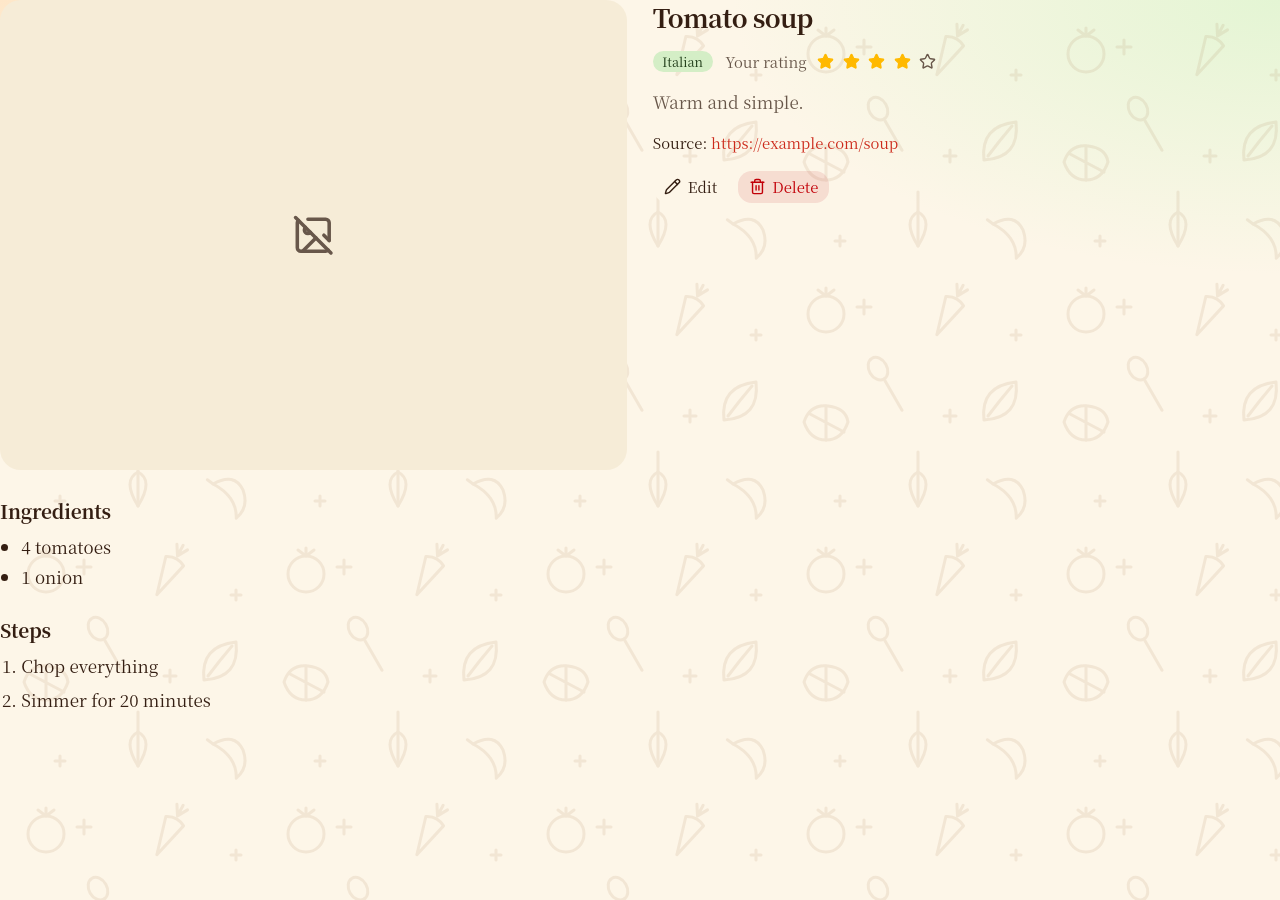
Scenario: RecipeDetailPage › asks for confirmation and does nothing when cancelled
Step 1. Click the button "Delete" → (784, 187), box [737,170,830,204]
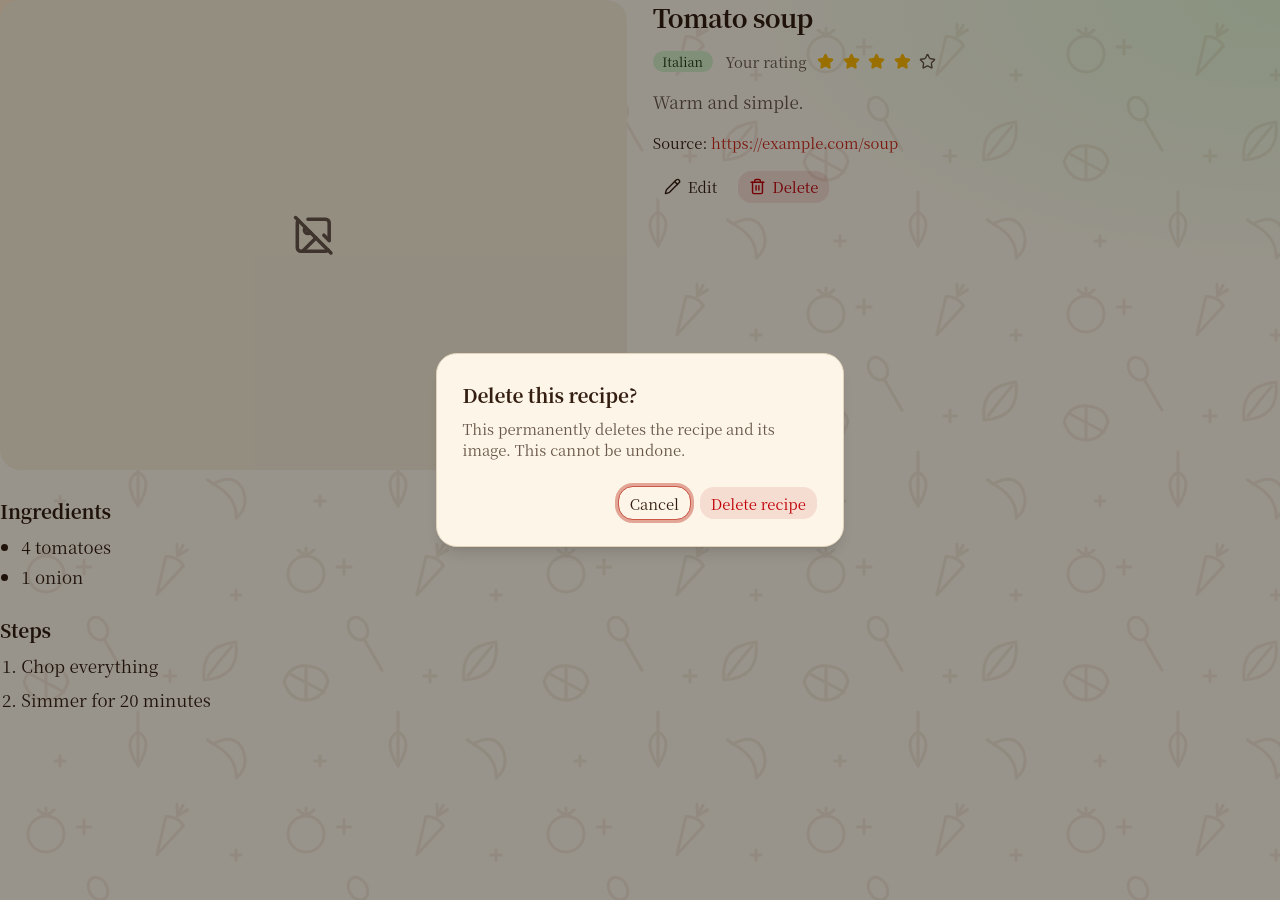
Expected: the dialog shows "cannot be undone", [462,418,775,460]
Step 2. Click the button "Cancel" → (654, 503), box [618,486,691,520]
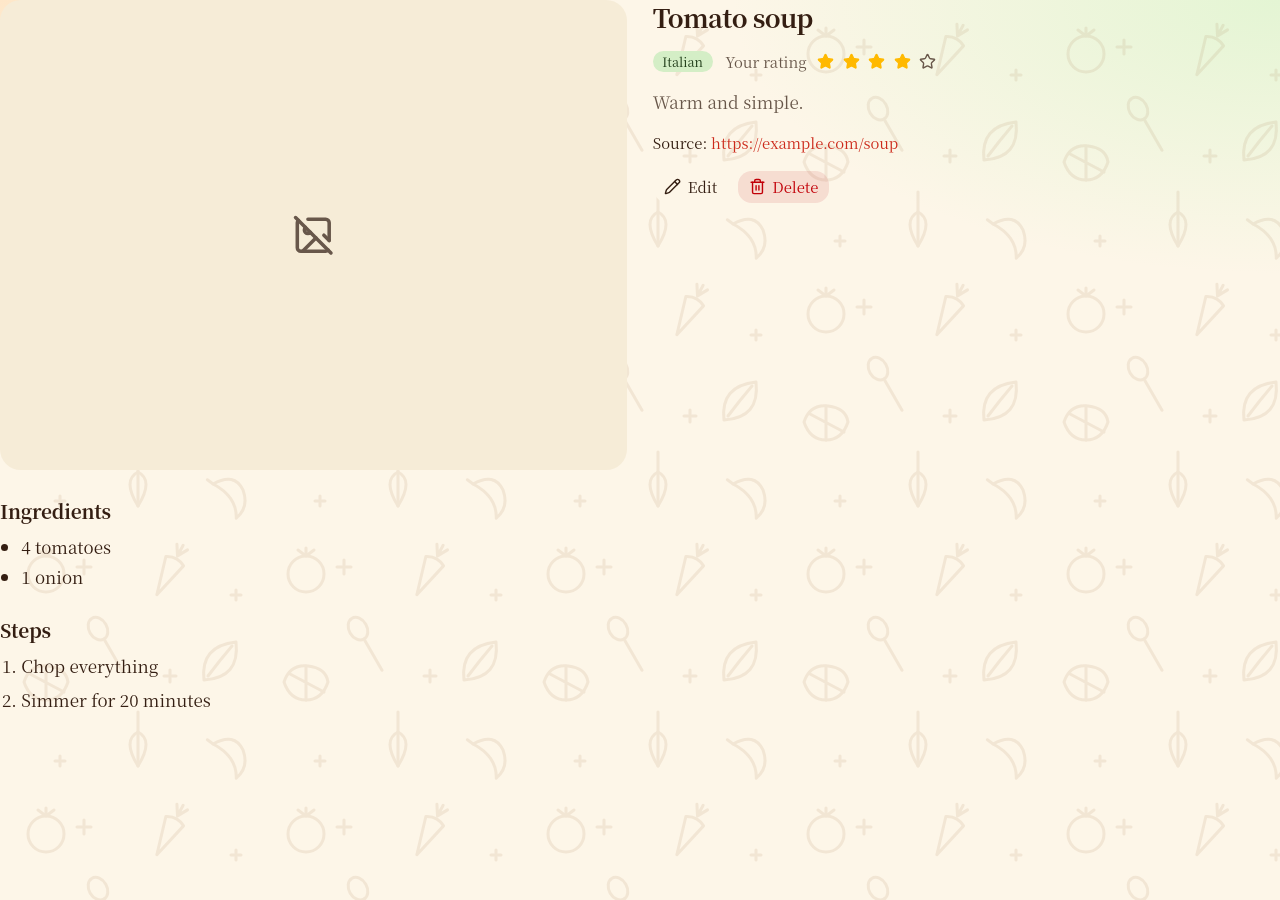
Expected: the heading "Tomato soup" is shown, [653,0,813,35]
Expected: the dialog is gone
